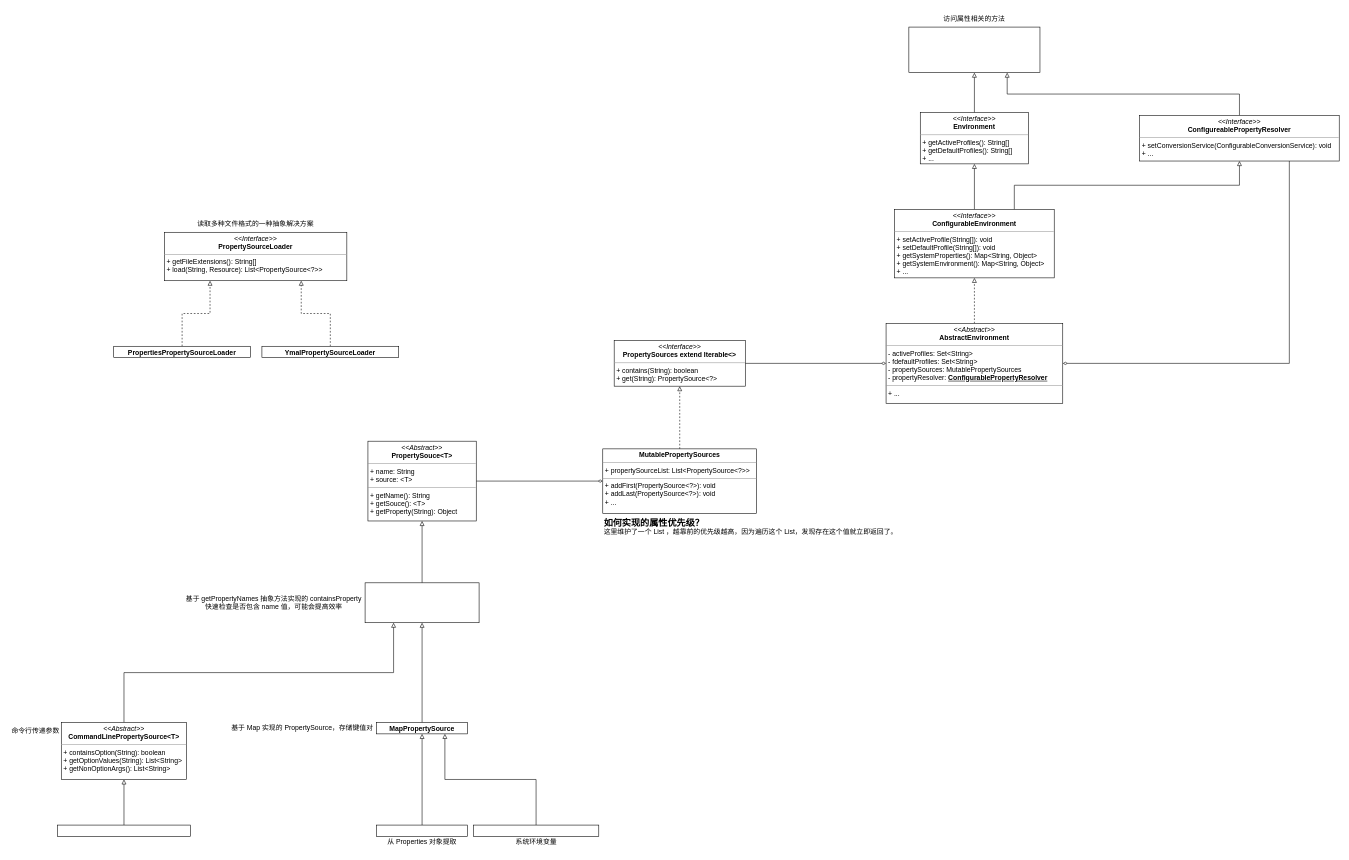
Some shapes in this 1349 by 860 pixel diagram are drawn without their labels. The shapes that lost their labels are listed below. From the top down, each one's box as (x1, y1, x2, y2) in pixels, then its label:
(908, 27, 1040, 73): <<Interface>> PropertyResolver + getProperty(String, Class<T>): <T> + ...
(365, 582, 479, 623): <<Abstract>> EnumerablePropertySource<T> + getPropertyNames(): String[]
(57, 825, 190, 836): SimpleCommandLinePropertySource
(376, 825, 468, 836): PropertiesPropertySource
(473, 825, 599, 836): SystemEnvironmentPropertySource
